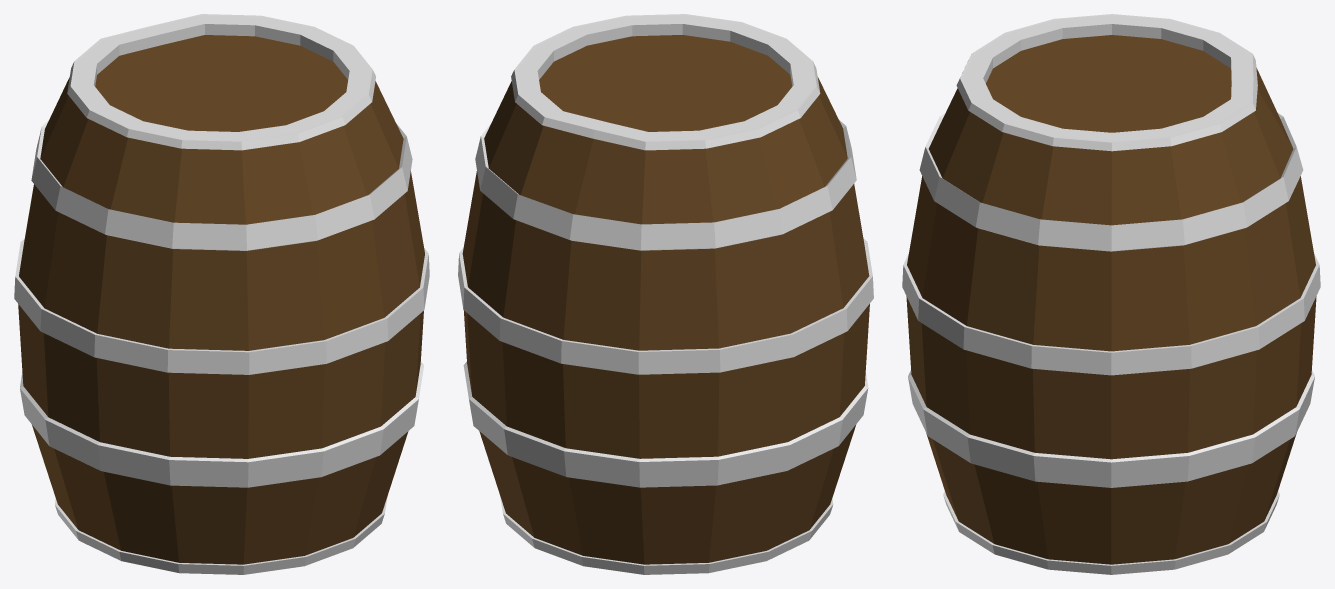
The model's file is Barrel_V004.fbx.
The picture shows the model from 3 angles, left to right: view 1: azimuth 30°, elevation 25°; view 2: azimuth 150°, elevation 25°; view 3: azimuth 270°, elevation 25°; orthographic projection.
Parts seen in each view (by area): view 1: Cylinder; view 2: Cylinder; view 3: Cylinder.
Part boxes in pixels (box(x1,y1,x2,y2)): Cylinder: box(14, 14, 429, 574); Cylinder: box(458, 14, 873, 574); Cylinder: box(902, 14, 1320, 574).
Size of the model in its own units: 83.62 by 94.12 by 83.62.
